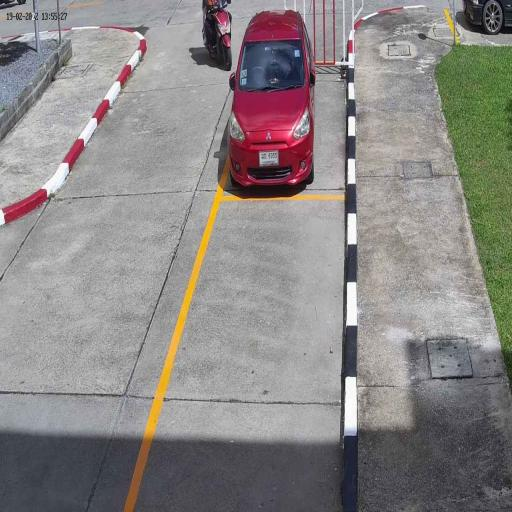car: (227, 11, 317, 190)
motorcycle: (212, 0, 234, 71)
